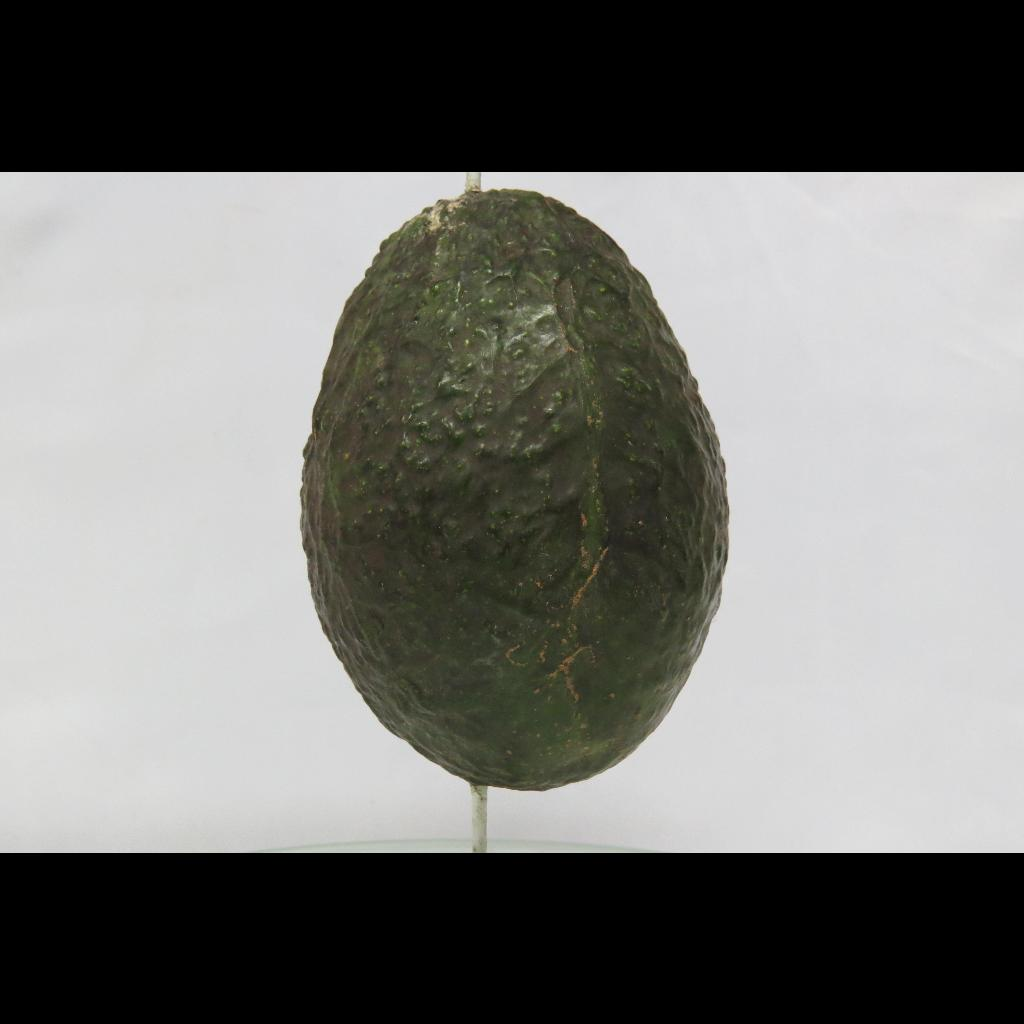fruto_sano: (260, 178, 774, 816)
